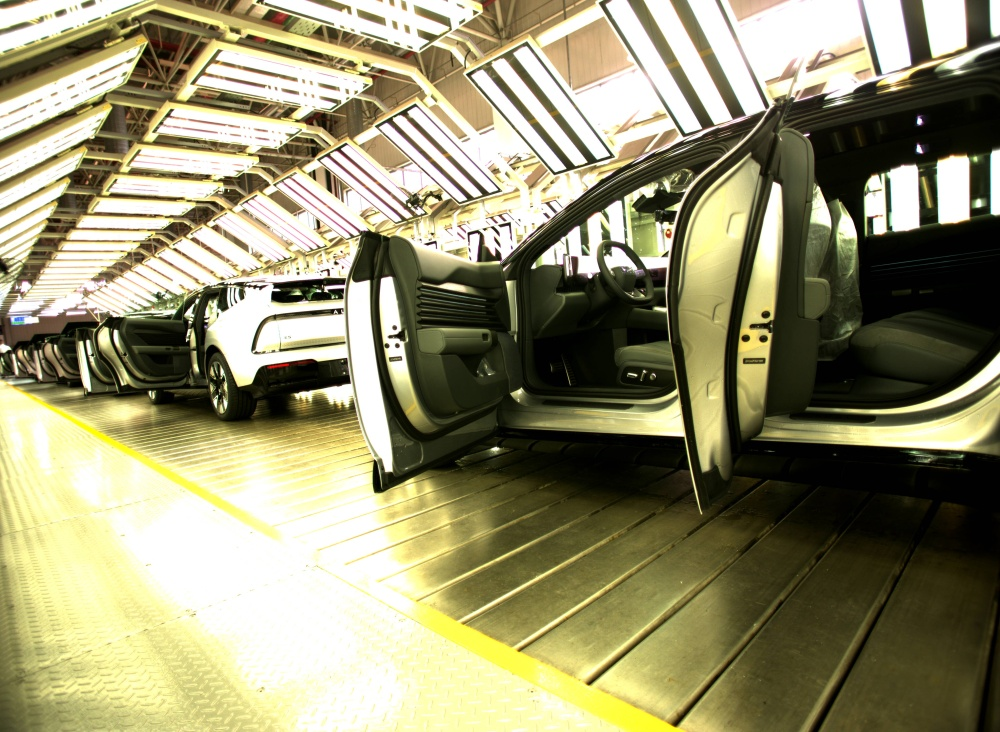armrest_color: (415, 326, 494, 355)
panel_color: (414, 276, 493, 330)
